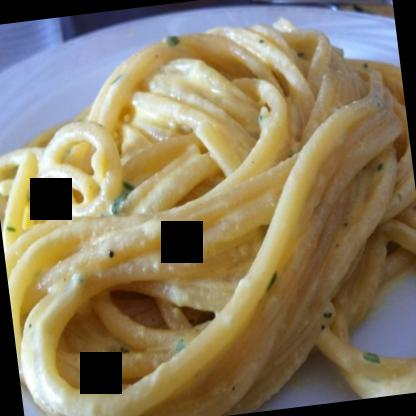pasta: (0, 7, 415, 415)
